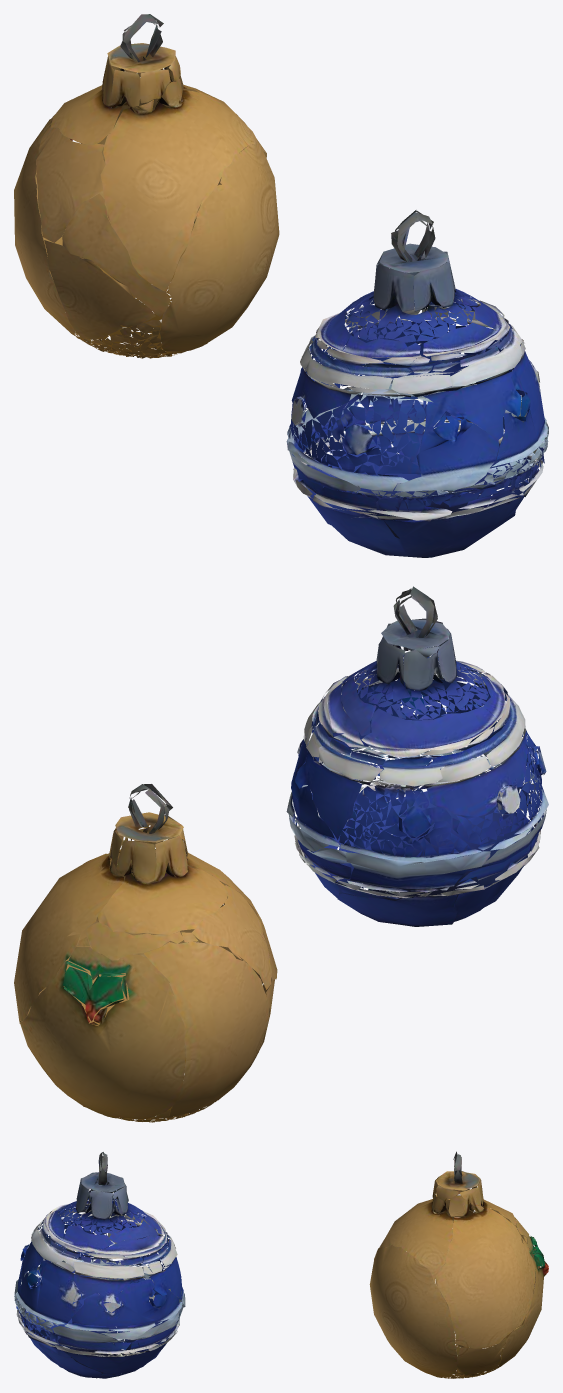
Rendered from ornamentB.glb.
3 views of the same model, one above another, from view 1: azimuth 30°, elevation 25°; view 2: azimuth 150°, elevation 25°; view 3: azimuth 270°, elevation 25° (orthographic). The views are drawn at different scales.
Visible parts, largest first — view 1: Ornament_B; view 2: Ornament_B; view 3: Ornament_B.
Boxes of the visible parts, x1,y1,x2,y2 form: Ornament_B: (14, 14, 548, 557); Ornament_B: (14, 586, 548, 1122); Ornament_B: (14, 1151, 548, 1378).
Bounding box in the file's own units: 0.1207 × 0.1616 × 0.3693.
Materials: 1 (1 with a texture image).
